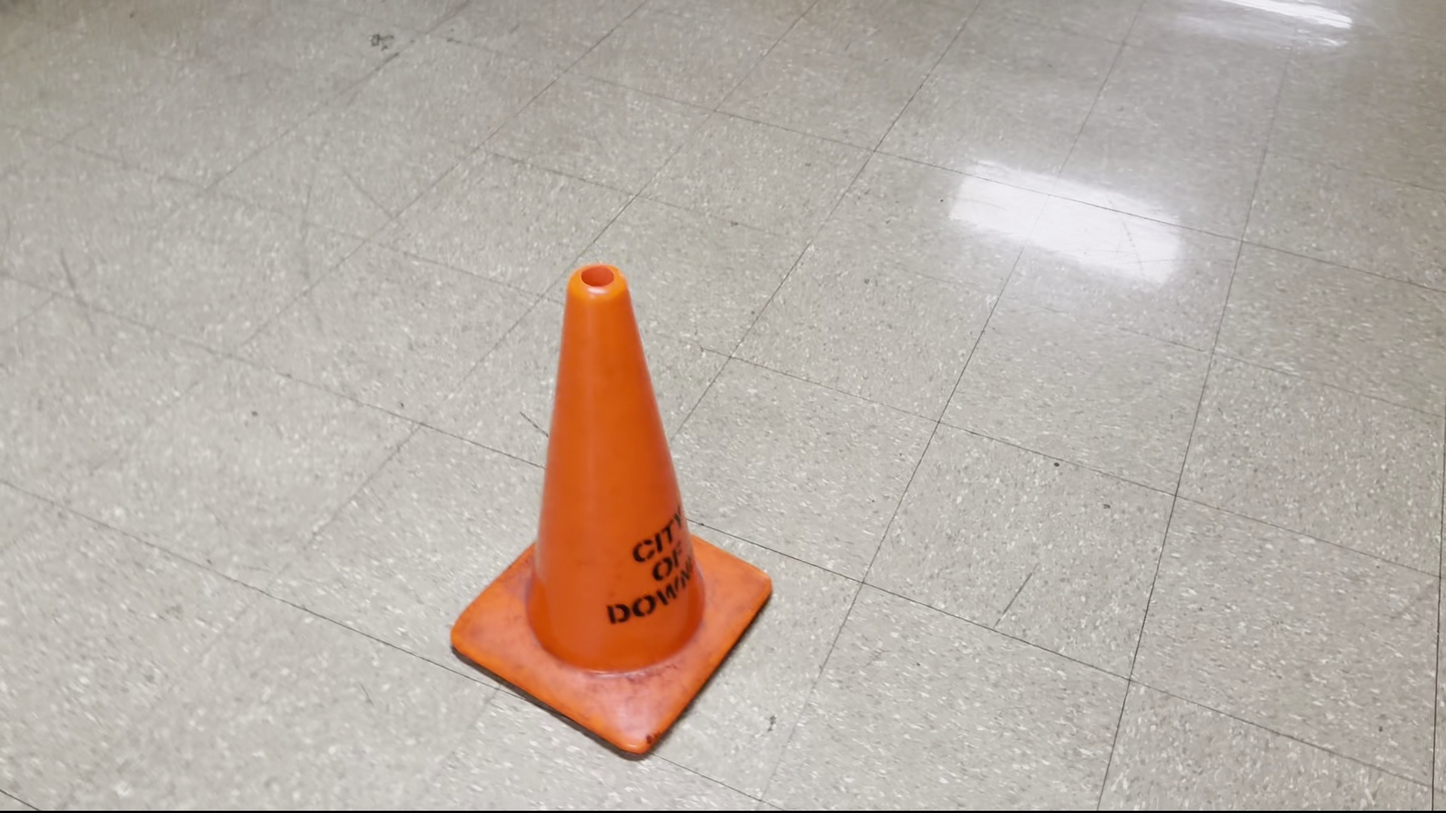traffic_cone: (449, 262, 773, 760)
